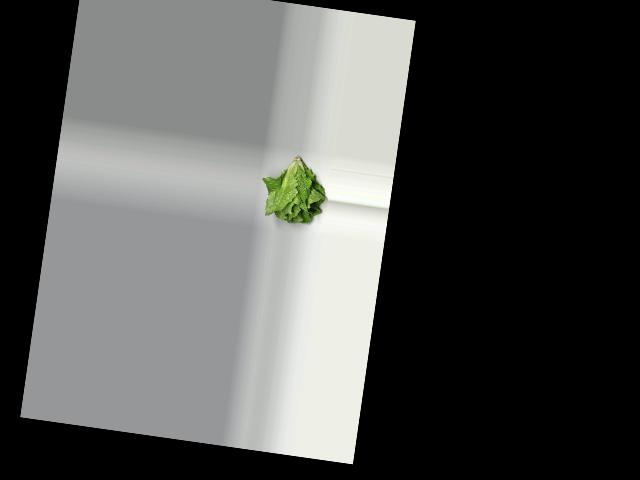lettuce: (258, 147, 335, 231)
